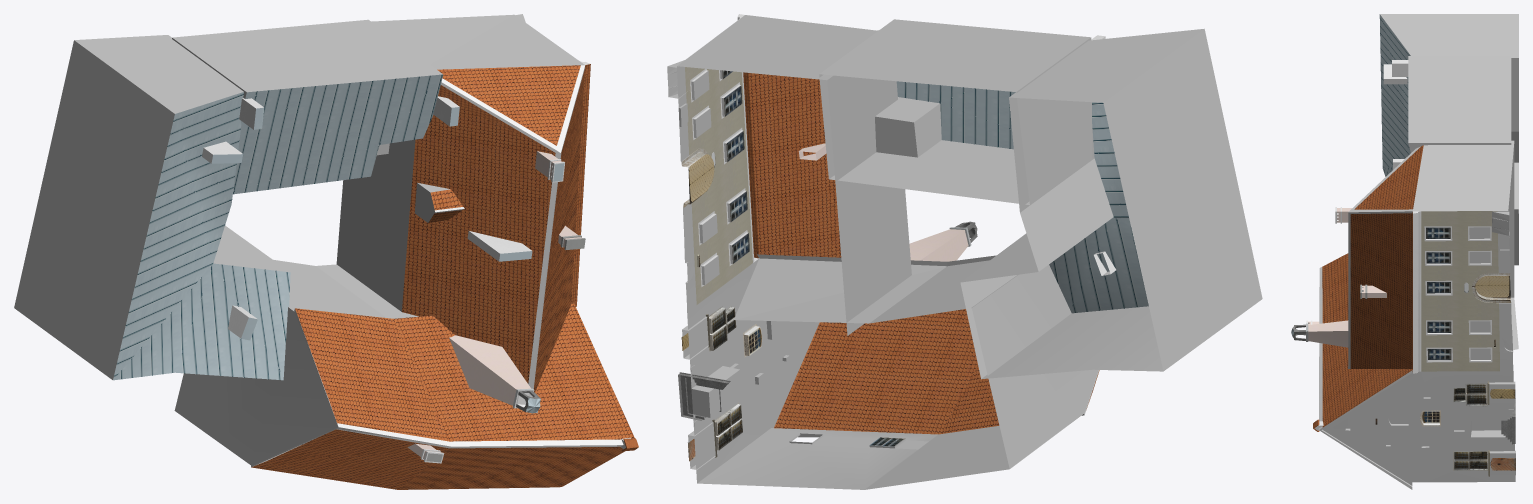
The model's file is Ryytli_16.obj.
3 views of the same model, side by side, from view 1: azimuth 30°, elevation 25°; view 2: azimuth 150°, elevation 25°; view 3: azimuth 270°, elevation 25° (orthographic). The views are drawn at different scales.
Visible parts, largest first — view 1: Ryytli_16; view 2: Ryytli_16; view 3: Ryytli_16.
Boxes of the visible parts, x1=… form: Ryytli_16: x1=14, y1=14, x2=638, y2=489; Ryytli_16: x1=667, y1=14, x2=1262, y2=489; Ryytli_16: x1=1291, y1=14, x2=1518, y2=489.
Bounding box in the file's own units: 33.89 × 31.64 × 19.34.
